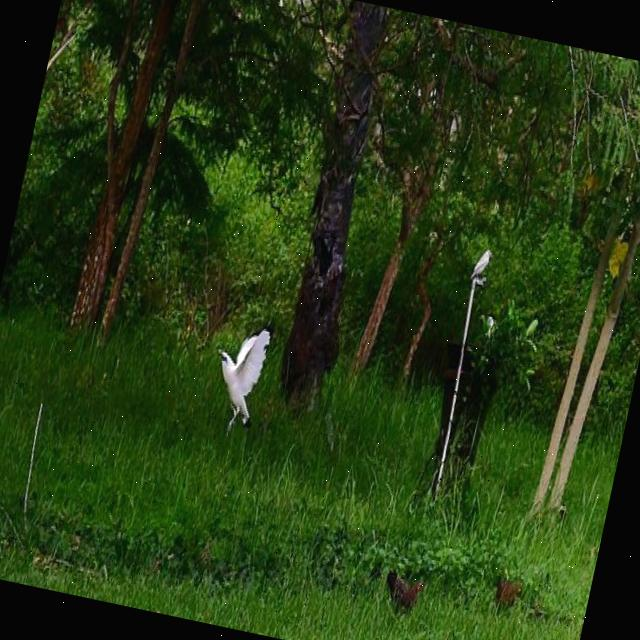Jalak Bali: (182, 294, 291, 456)
